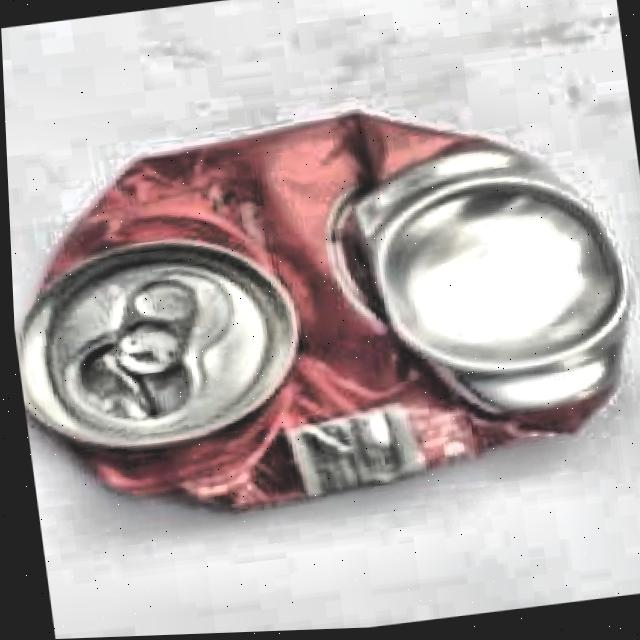metal: (12, 109, 638, 515)
